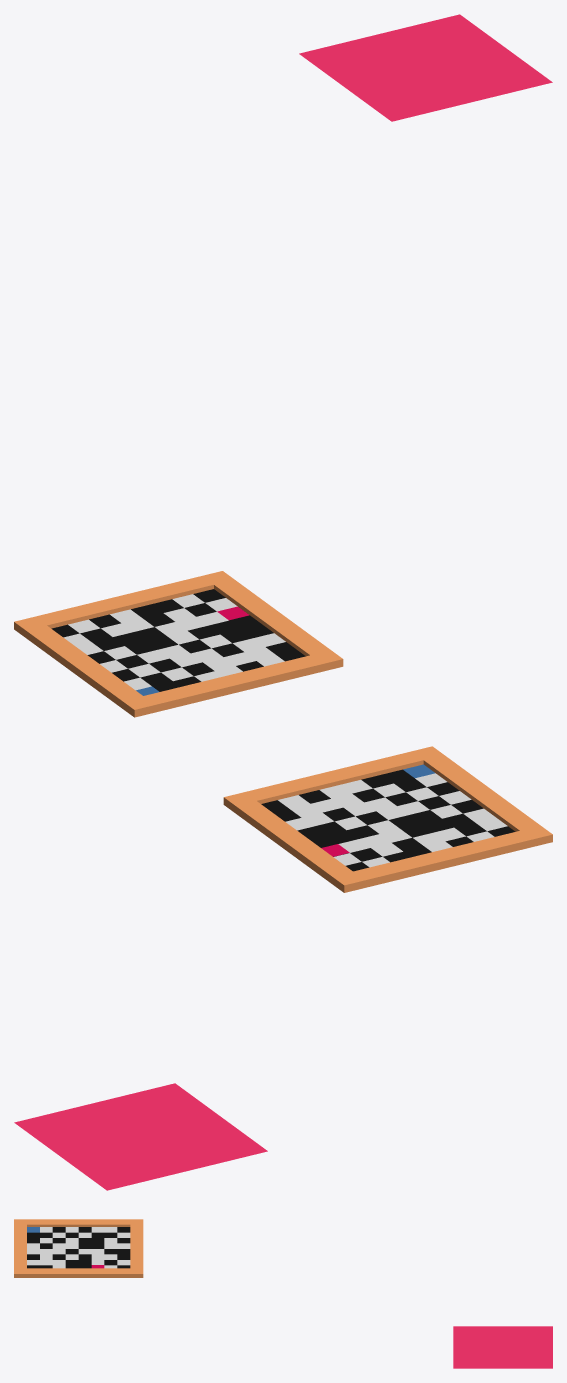
File: the real 8x8.dae
3 views of the same model, one above another, from view 1: azimuth 30°, elevation 25°; view 2: azimuth 210°, elevation 25°; view 3: azimuth 270°, elevation 25° (orthographic). The views are drawn at different scales.
Parts seen in each view (by area): view 1: Cube, GOAL; view 2: Cube, GOAL; view 3: Cube, GOAL.
Part boxes in pixels (x1,y1,x2,y2): Cube: (14,571,343,717); GOAL: (299,14,552,121); Cube: (223,746,552,892); GOAL: (14,1083,267,1190); Cube: (14,1219,143,1277); GOAL: (453,1326,552,1368).
Bounding box in the file's own units: 19.83 × 20.85 × 3.05.
